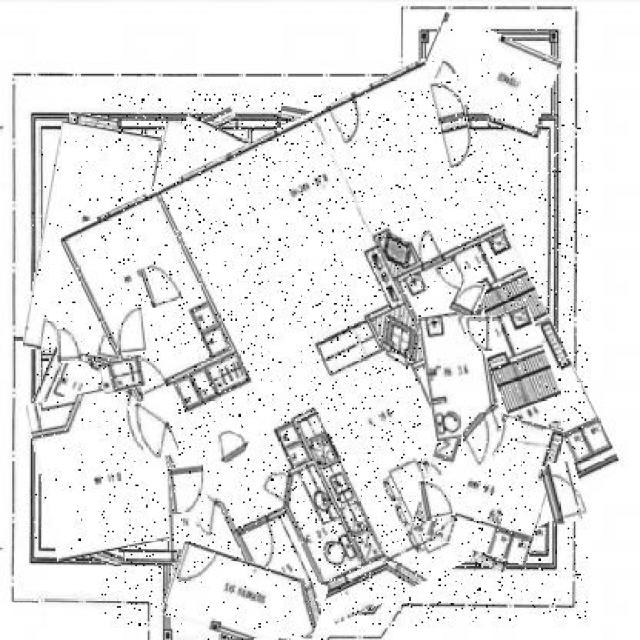door: (102, 91, 588, 626), (32, 125, 152, 360), (34, 385, 178, 557), (132, 122, 265, 304), (137, 125, 257, 300), (420, 406, 555, 557), (165, 552, 323, 640), (420, 23, 557, 122), (421, 311, 497, 438), (217, 437, 281, 554), (481, 309, 554, 411), (35, 351, 108, 429), (169, 468, 228, 550), (100, 358, 146, 392)
window: (436, 76, 472, 166), (132, 398, 174, 460), (544, 460, 584, 523), (169, 551, 209, 603), (170, 466, 208, 512), (463, 412, 492, 468), (143, 262, 179, 306), (420, 477, 454, 520), (212, 429, 248, 466), (115, 310, 146, 352), (452, 278, 483, 317), (465, 315, 492, 351), (57, 328, 80, 363)
zone: (279, 111, 383, 135), (368, 569, 400, 606), (187, 111, 236, 134), (297, 568, 325, 608), (489, 114, 542, 134), (72, 543, 123, 563), (455, 549, 508, 568), (71, 115, 120, 131), (328, 596, 364, 616), (229, 550, 249, 562)
